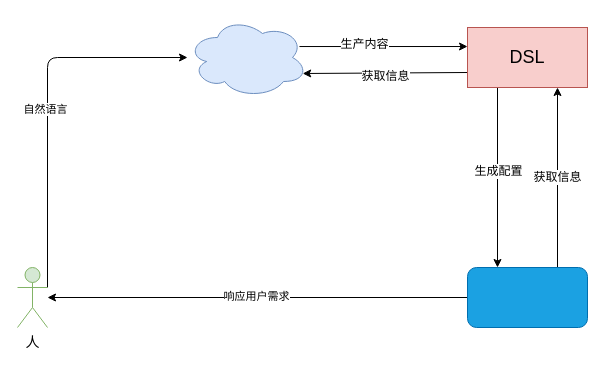
Image size: 605x369. Some labels were removed from this diagram. The box of each missing label's shape, as (x1, y1, x2, y2) in pixels:
AI: (186, 16, 308, 98)
letgo: (466, 266, 588, 328)
